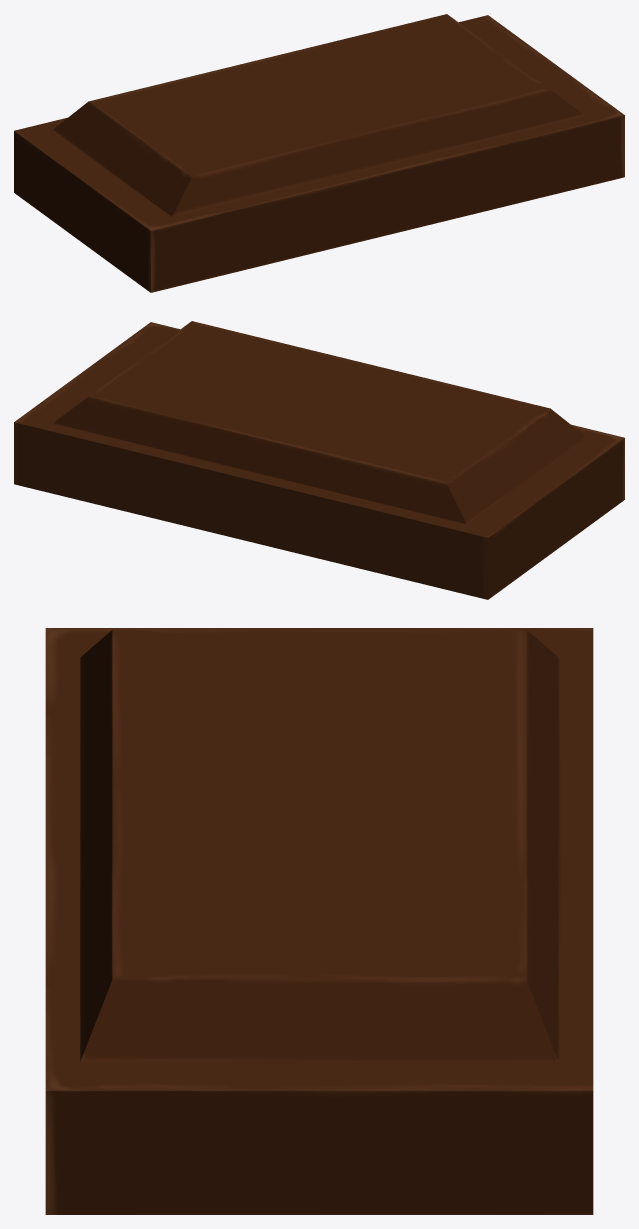
File: choco.fbx
3 views of the same model, one above another, from view 1: azimuth 30°, elevation 25°; view 2: azimuth 150°, elevation 25°; view 3: azimuth 270°, elevation 25° (orthographic). The views are drawn at different scales.
Parts seen in each view (by area): view 1: Box003; view 2: Box003; view 3: Box003.
Boxes of the visible parts, <box> form: Box003: <box>14,14,624,292</box>; Box003: <box>14,321,624,599</box>; Box003: <box>45,628,593,1214</box>.
Size of the model in its own units: 20 by 3.6 by 10.
Materials: 1 (1 with a texture image).
